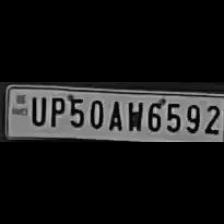0: (87, 97, 105, 129)
2: (201, 101, 221, 135)
5: (65, 95, 85, 129), (164, 99, 181, 133)
6: (144, 98, 162, 132)
9: (183, 101, 201, 133)
A: (105, 97, 123, 130)
P: (46, 93, 64, 127)
U: (28, 93, 46, 126)
W: (124, 98, 142, 132)
